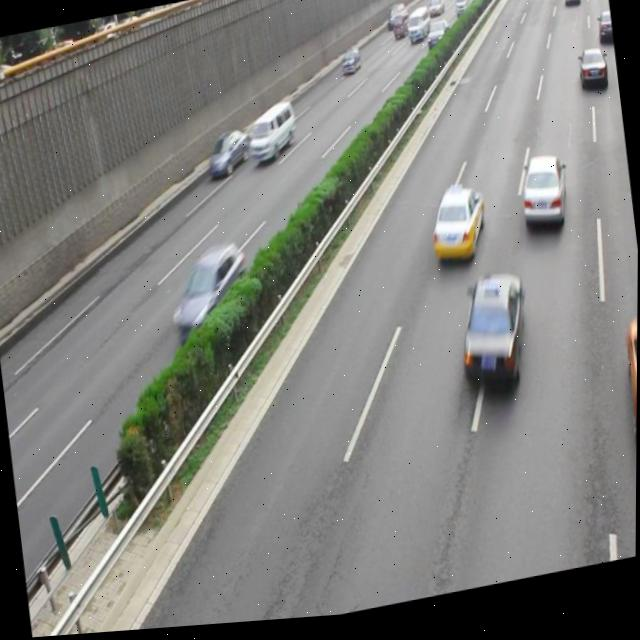car: (450, 272, 534, 409), (163, 243, 252, 345), (425, 186, 488, 274), (515, 158, 571, 243), (620, 326, 638, 478), (204, 128, 250, 180), (575, 53, 607, 102), (593, 17, 614, 55)
truck: (243, 104, 298, 168)
